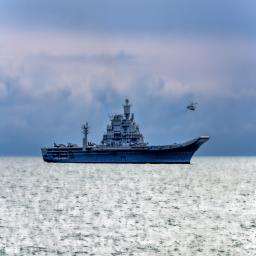Portanaves: (41, 97, 212, 167)
